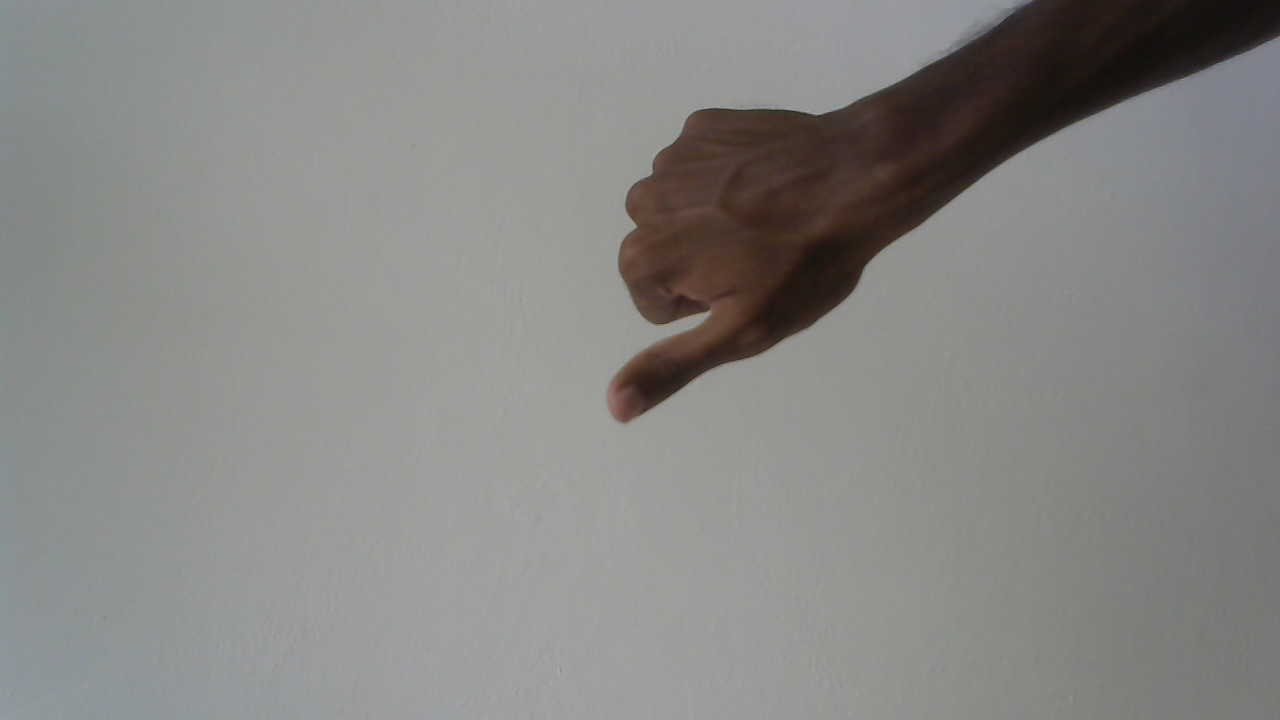thumbsdown: (593, 90, 889, 441)
